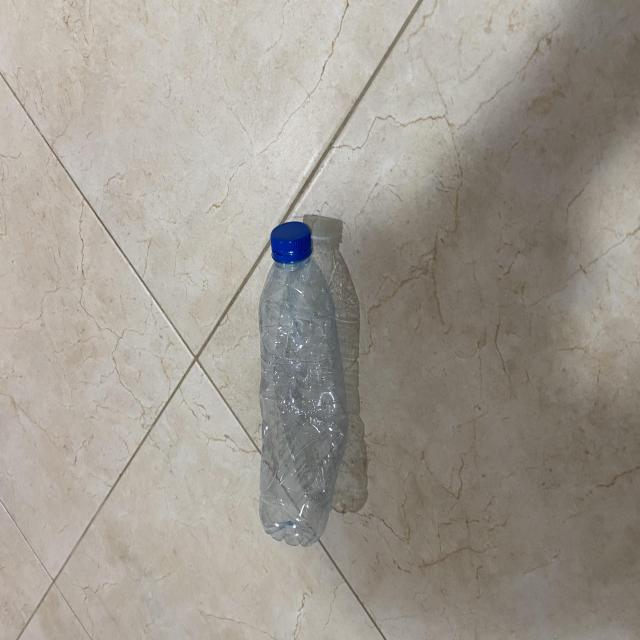plastic: (255, 218, 348, 550)
